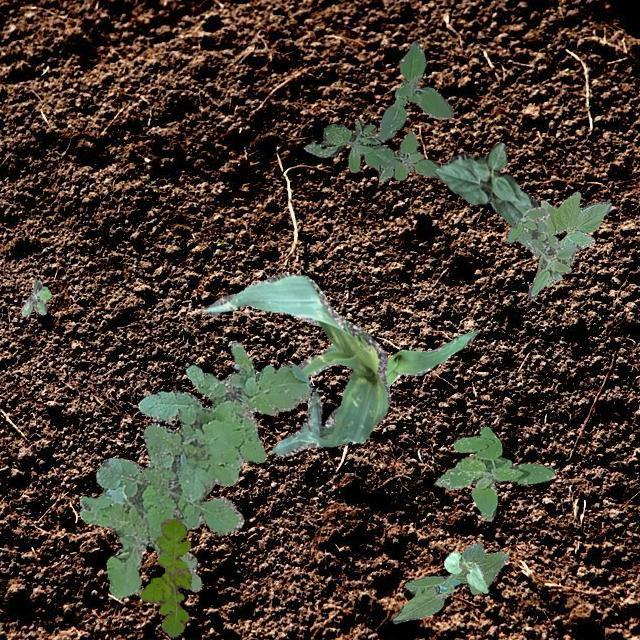crop: (200, 272, 390, 456), (392, 540, 508, 622), (436, 140, 538, 224), (537, 190, 611, 284), (383, 328, 478, 386), (442, 550, 488, 592)
weed: (77, 342, 310, 596), (302, 41, 452, 180), (434, 426, 554, 520), (504, 205, 580, 298), (138, 518, 190, 636), (20, 278, 50, 316)
